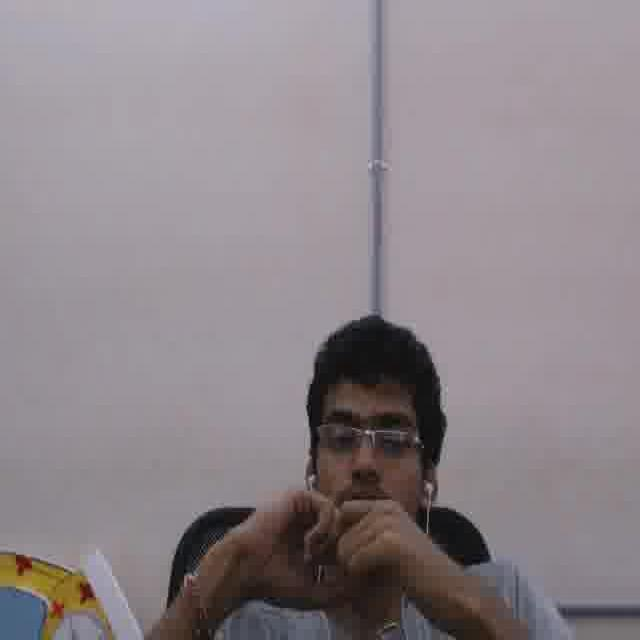Boredom: (313, 384, 421, 552)
